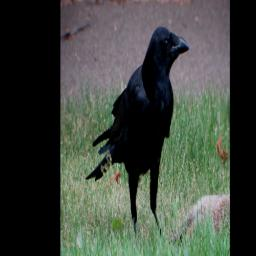Crow: (85, 25, 191, 242)
